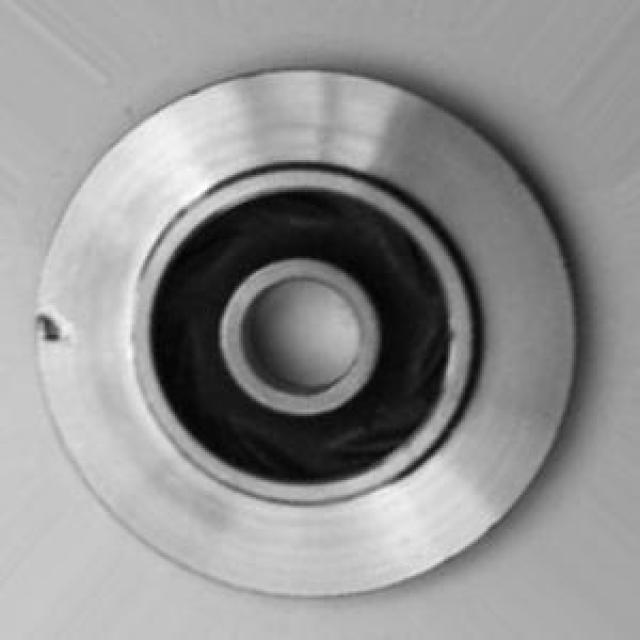Defect: (26, 302, 97, 363)
